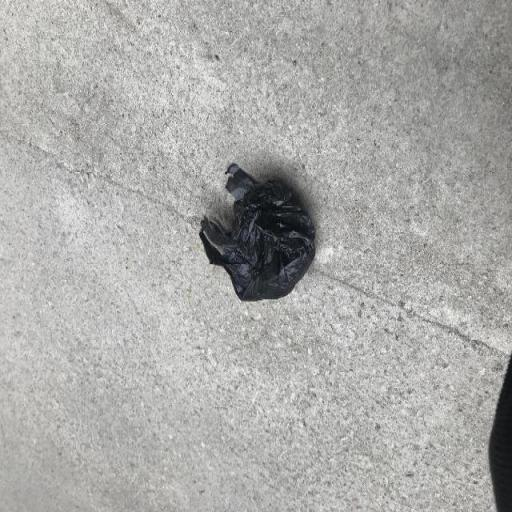polythene: (200, 164, 314, 298)
